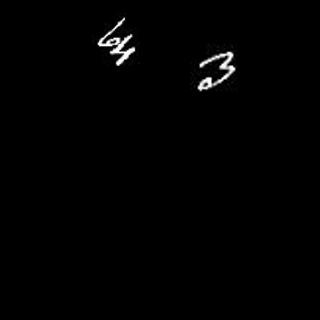four: (111, 33, 140, 67)
six: (98, 12, 131, 46)
three: (194, 51, 236, 90)
